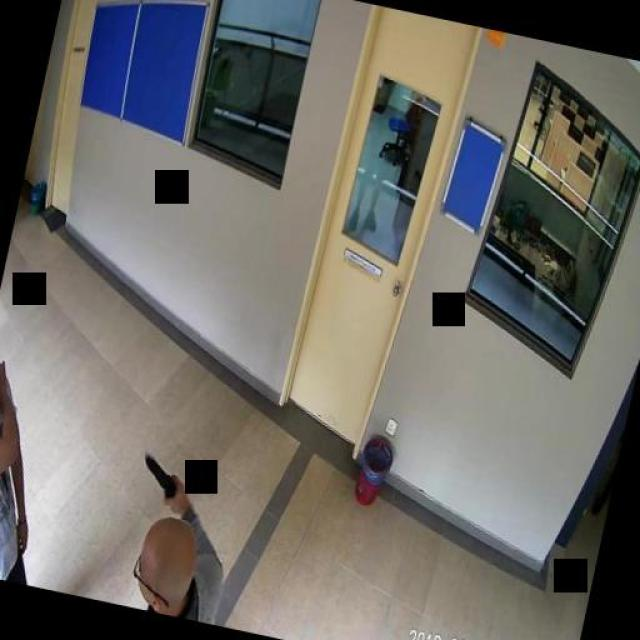gun: (132, 448, 184, 508)
